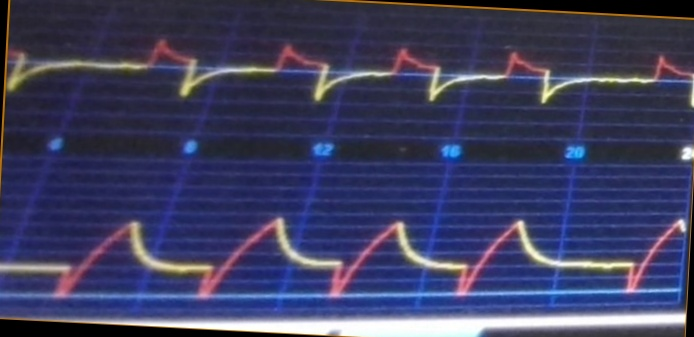Flow: (8, 33, 691, 131)
Leakage Volume: (5, 201, 686, 308)
